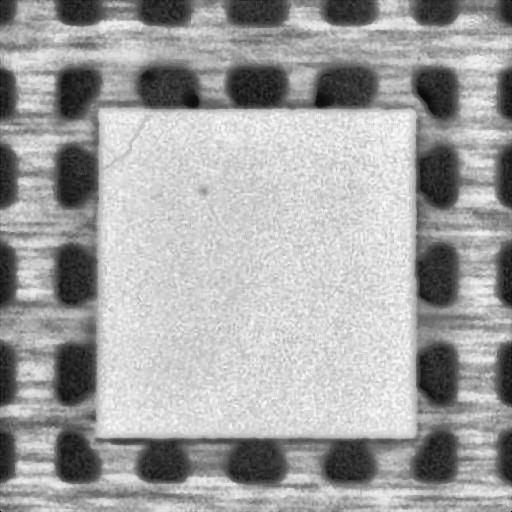DIE_CRACK: (103, 114, 152, 170)
